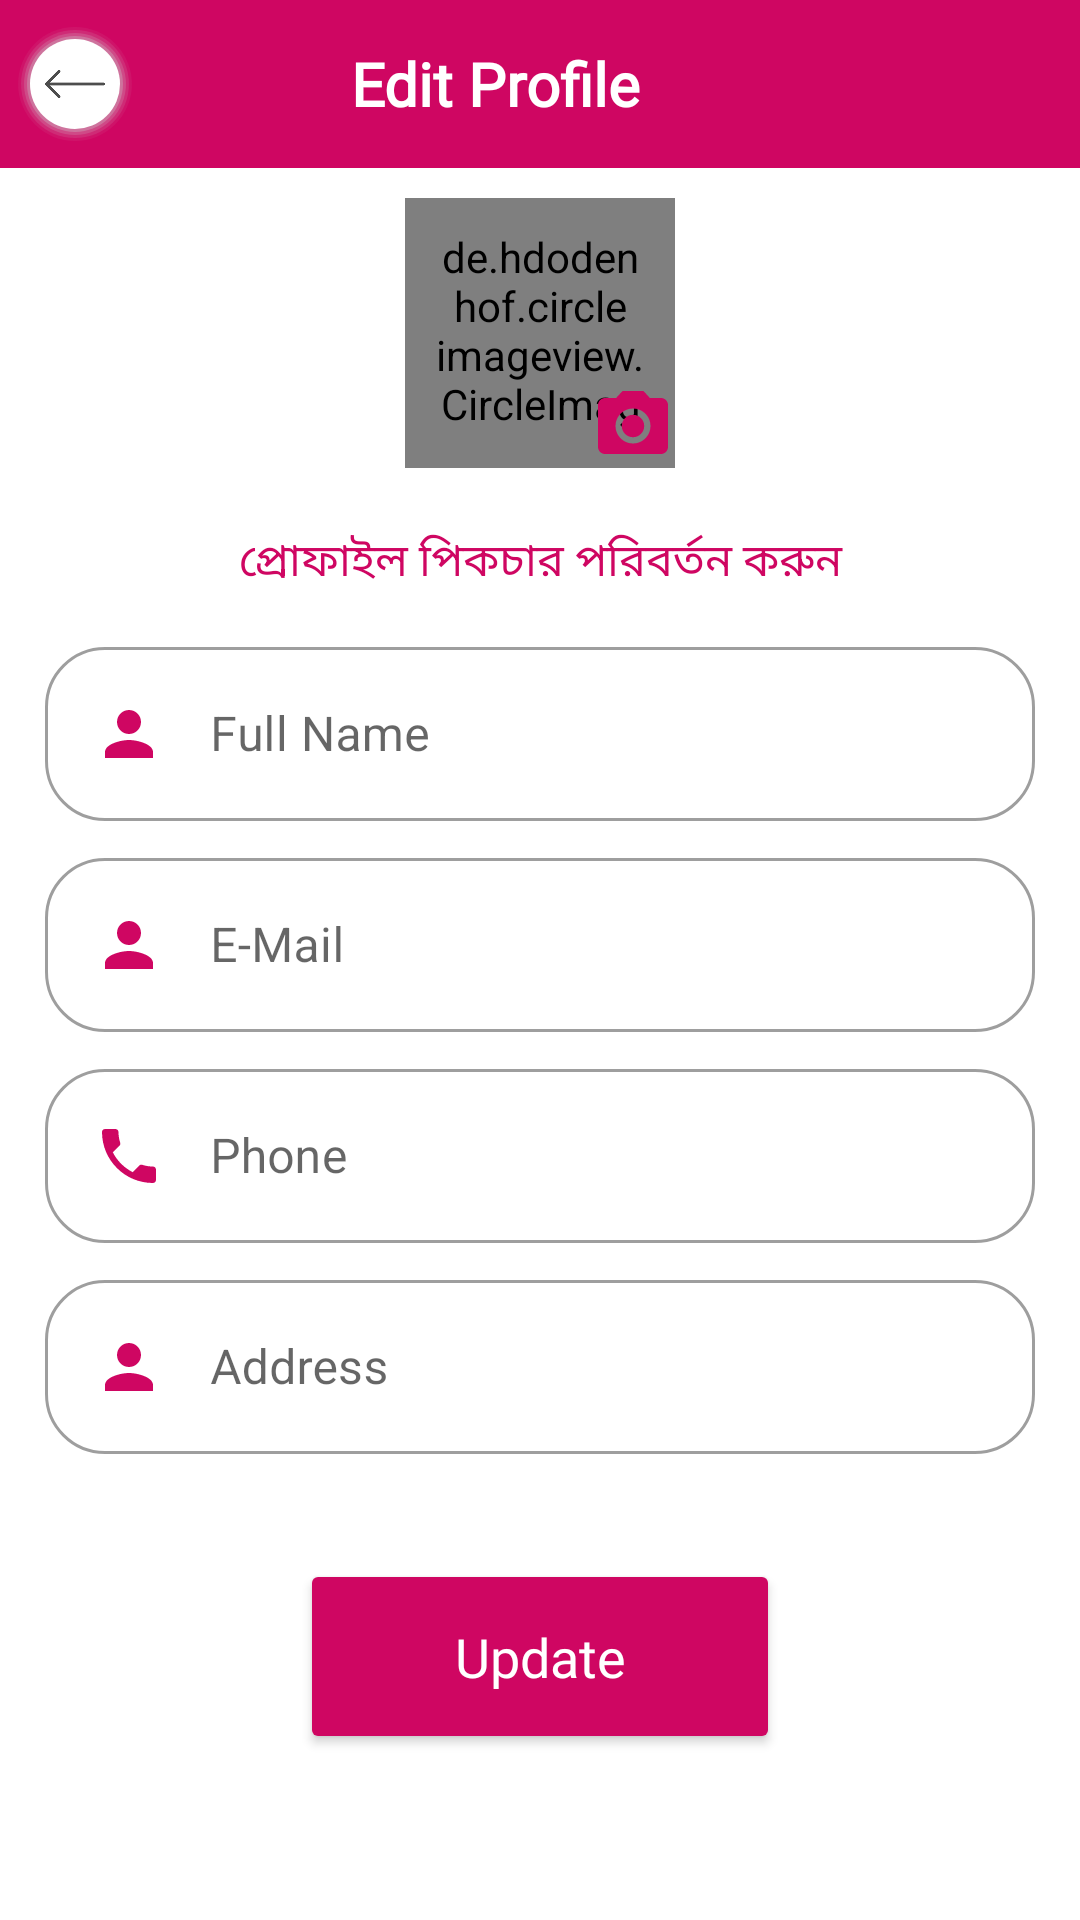

Icon bounding boxes for this 1080px x 1920px phone screenshot, format (x1, y1, x2, y2):
back arow: (21, 30, 129, 138)
camera: (596, 391, 668, 454)
